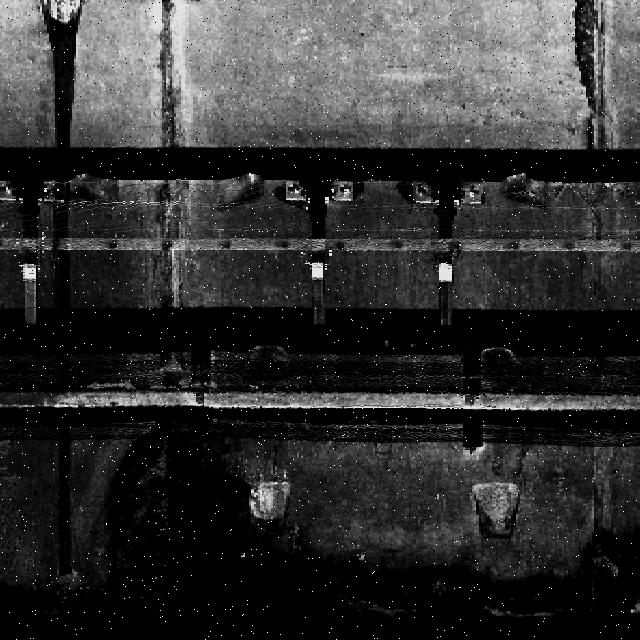leakage: (0, 426, 635, 640), (48, 1, 79, 581), (564, 1, 619, 150)
